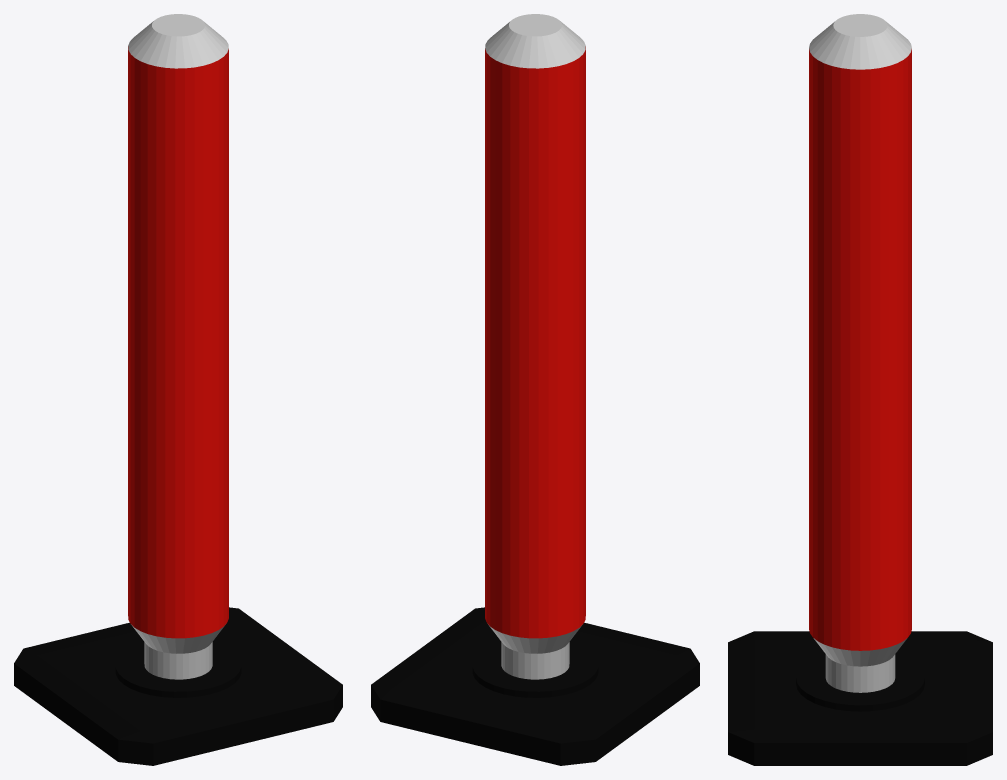
The model's file is Pole.obj.
The picture shows the model from 3 angles, left to right: view 1: azimuth 30°, elevation 25°; view 2: azimuth 150°, elevation 25°; view 3: azimuth 270°, elevation 25°; orthographic projection.
Parts seen in each view (by area): view 1: Cube.004, Cube.003; view 2: Cube.004, Cube.003; view 3: Cube.004, Cube.003.
Part boxes in pixels (x1,y1,x2,y2): Cube.004: (128,14,228,653); Cube.003: (14,607,342,765); Cube.004: (485,14,585,653); Cube.003: (371,607,699,765); Cube.004: (809,14,911,666); Cube.003: (728,631,992,765).
Size of the model in its own units: 0.4549 by 1.3 by 0.4549.
